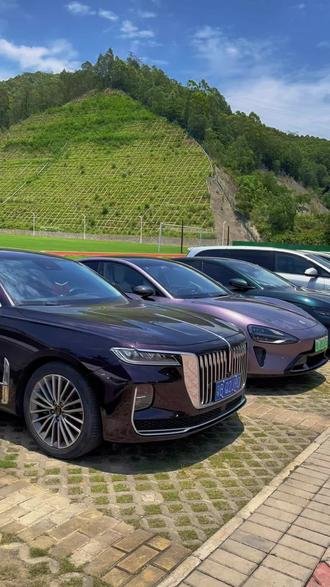other: (4, 244, 249, 465)
su7: (151, 253, 327, 379)
